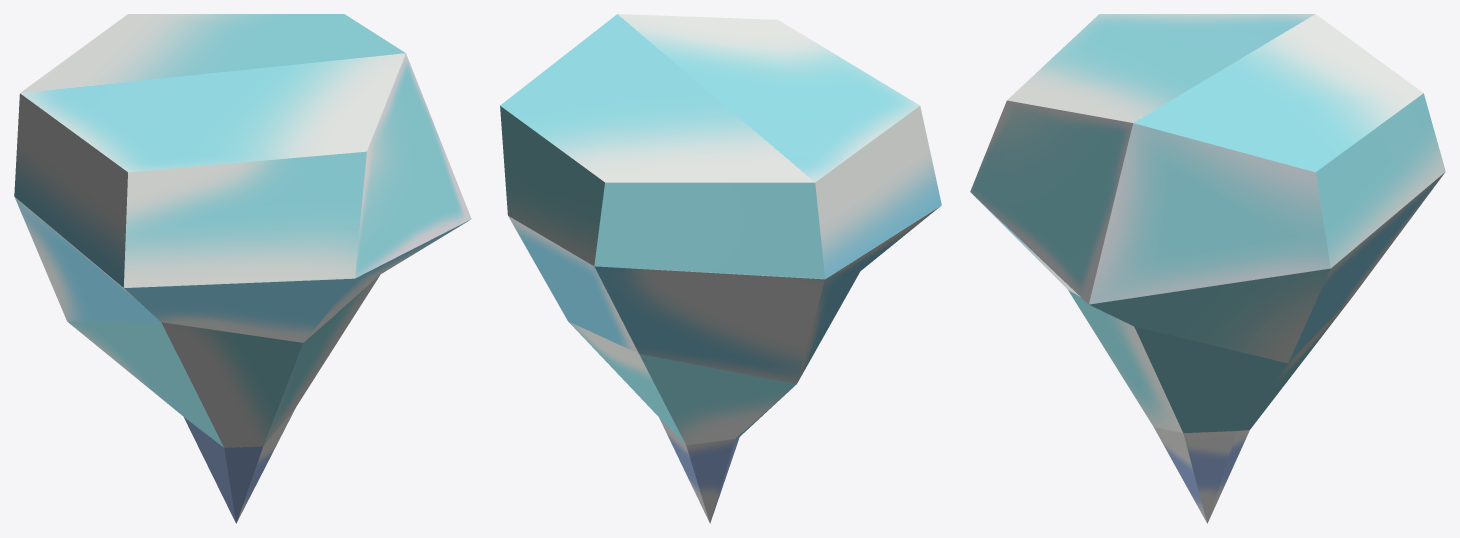
The model's file is ponte-gelo.fbx.
3 views of the same model, side by side, from view 1: azimuth 30°, elevation 25°; view 2: azimuth 150°, elevation 25°; view 3: azimuth 270°, elevation 25° (orthographic). The views are drawn at different scales.
Visible parts, largest first — view 1: ponte-gelo; view 2: ponte-gelo; view 3: ponte-gelo.
Part boxes in pixels (left/top/right/bottom): ponte-gelo: left=14, top=14, right=471, bottom=523; ponte-gelo: left=500, top=14, right=941, bottom=523; ponte-gelo: left=970, top=14, right=1445, bottom=523.
Size of the model in its own units: 117 by 148 by 137.
